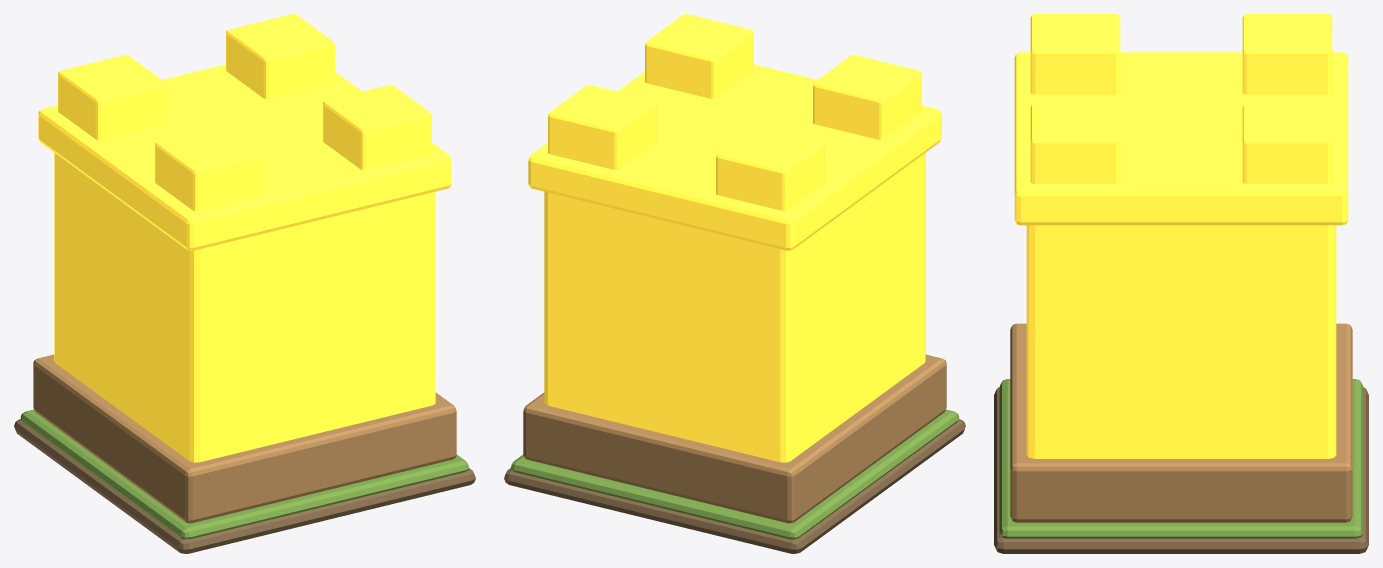
File: wall_lv5.glb
3 renders of one model, left to right at view 1: azimuth 30°, elevation 25°; view 2: azimuth 150°, elevation 25°; view 3: azimuth 270°, elevation 25°, orthographic. The views are drawn at different scales.
Parts seen in each view (by area): view 1: GoldBody, GoldCap, GoldPlinth, Base_Grass, GoldMerlon_-1_1, GoldMerlon_1_-1, GoldMerlon_1_1, GoldMerlon_-1_-1, Base_Dirt; view 2: GoldBody, GoldCap, GoldPlinth, Base_Grass, GoldMerlon_-1_-1, GoldMerlon_1_1, GoldMerlon_1_-1, GoldMerlon_-1_1, Base_Dirt; view 3: GoldBody, GoldCap, GoldPlinth, Base_Grass, Base_Dirt, GoldMerlon_-1_1, GoldMerlon_-1_-1, GoldMerlon_1_1, GoldMerlon_1_-1.
Boxes of the visible parts, x1=… form: GoldBody: x1=54, y1=153, x2=435, y2=462; GoldCap: x1=38, y1=64, x2=451, y2=250; GoldPlinth: x1=33, y1=354, x2=456, y2=523; Base_Grass: x1=20, y1=409, x2=469, y2=539; GoldMerlon_-1_1: x1=58, y1=55, x2=166, y2=139; GoldMerlon_1_-1: x1=323, y1=85, x2=431, y2=169; GoldMerlon_1_1: x1=226, y1=14, x2=334, y2=98; GoldMerlon_-1_-1: x1=155, y1=126, x2=263, y2=210; Base_Dirt: x1=14, y1=419, x2=475, y2=553; GoldBody: x1=544, y1=153, x2=925, y2=462; GoldCap: x1=528, y1=64, x2=941, y2=250; GoldPlinth: x1=523, y1=354, x2=946, y2=523; Base_Grass: x1=510, y1=409, x2=959, y2=539; GoldMerlon_-1_-1: x1=813, y1=55, x2=921, y2=139; GoldMerlon_1_1: x1=548, y1=85, x2=656, y2=169; GoldMerlon_1_-1: x1=645, y1=14, x2=753, y2=98; GoldMerlon_-1_1: x1=716, y1=126, x2=824, y2=210; Base_Dirt: x1=504, y1=419, x2=965, y2=553; GoldBody: x1=1026, y1=225, x2=1336, y2=458; GoldCap: x1=1014, y1=52, x2=1348, y2=225; GoldPlinth: x1=1010, y1=323, x2=1352, y2=522; Base_Grass: x1=999, y1=379, x2=1363, y2=538; Base_Dirt: x1=994, y1=387, x2=1368, y2=553; GoldMerlon_-1_1: x1=1242, y1=14, x2=1332, y2=94; GoldMerlon_-1_-1: x1=1030, y1=14, x2=1120, y2=94; GoldMerlon_1_1: x1=1242, y1=103, x2=1332, y2=183; GoldMerlon_1_-1: x1=1030, y1=103, x2=1120, y2=183.
Bounding box in the file's own units: 0.92 × 1.09 × 0.92.
